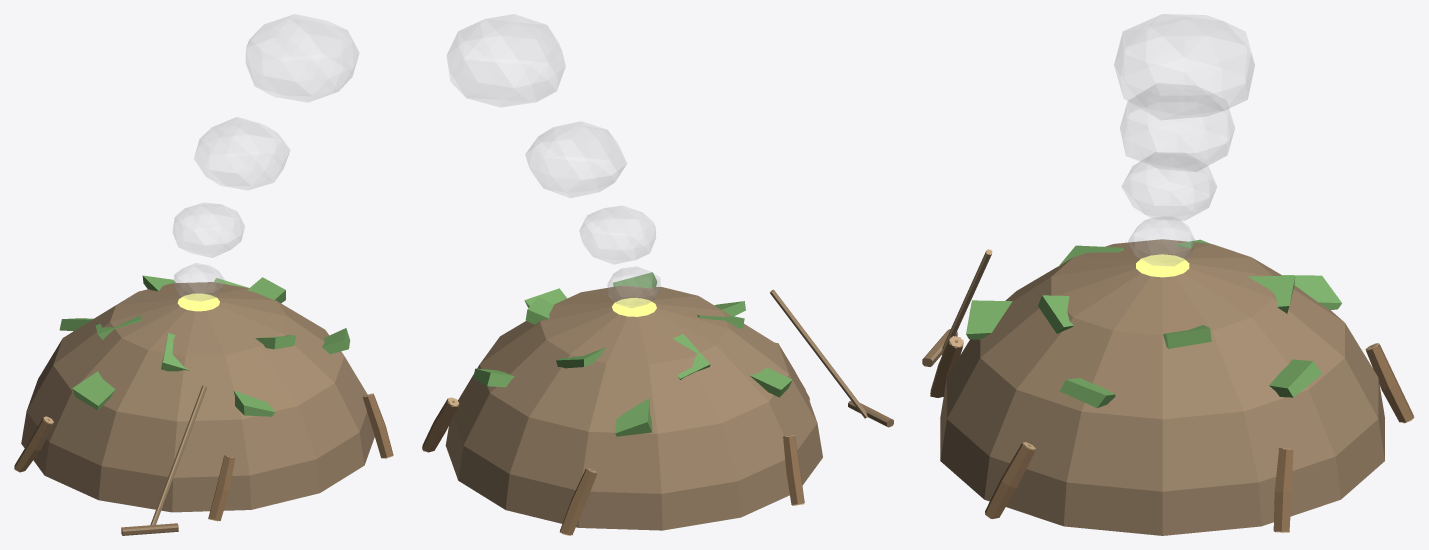
File: w3d_charcoal_clamp_working.glb
3 renders of one model, left to right at view 1: azimuth 30°, elevation 25°; view 2: azimuth 150°, elevation 25°; view 3: azimuth 270°, elevation 25°, orthographic. The views are drawn at different scales.
Visible parts, largest first — view 1: w3d_charcoal_clamp_working; view 2: w3d_charcoal_clamp_working; view 3: w3d_charcoal_clamp_working.
Boxes of the visible parts, x1,y1,x2,y2 form: w3d_charcoal_clamp_working: [14, 14, 393, 535]; w3d_charcoal_clamp_working: [422, 14, 893, 535]; w3d_charcoal_clamp_working: [922, 14, 1414, 535].
Bounding box in the file's own units: 2.69 × 2.96 × 2.7.
